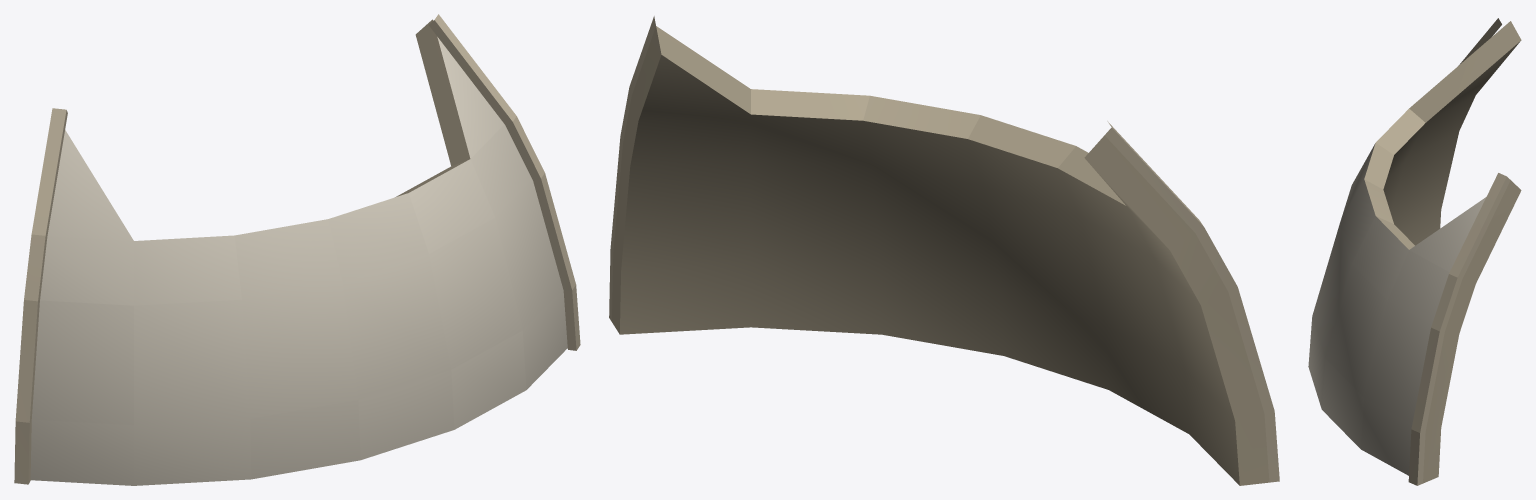
The model's file is dome.panel_4_broken.plaster.glb.
The picture shows the model from 3 angles, left to right: view 1: azimuth 30°, elevation 25°; view 2: azimuth 150°, elevation 25°; view 3: azimuth 270°, elevation 25°; orthographic projection. The views are drawn at different scales.
Parts seen in each view (by area): view 1: dome_panel_4_broken_plaster; view 2: dome_panel_4_broken_plaster; view 3: dome_panel_4_broken_plaster.
Boxes of the visible parts, x1,y1,x2,y2 form: dome_panel_4_broken_plaster: (14,14,580,485); dome_panel_4_broken_plaster: (609,16,1279,485); dome_panel_4_broken_plaster: (1308,18,1521,485).
Size of what is drawn, in the model's own units: 5.05 by 2.68 by 1.91.
